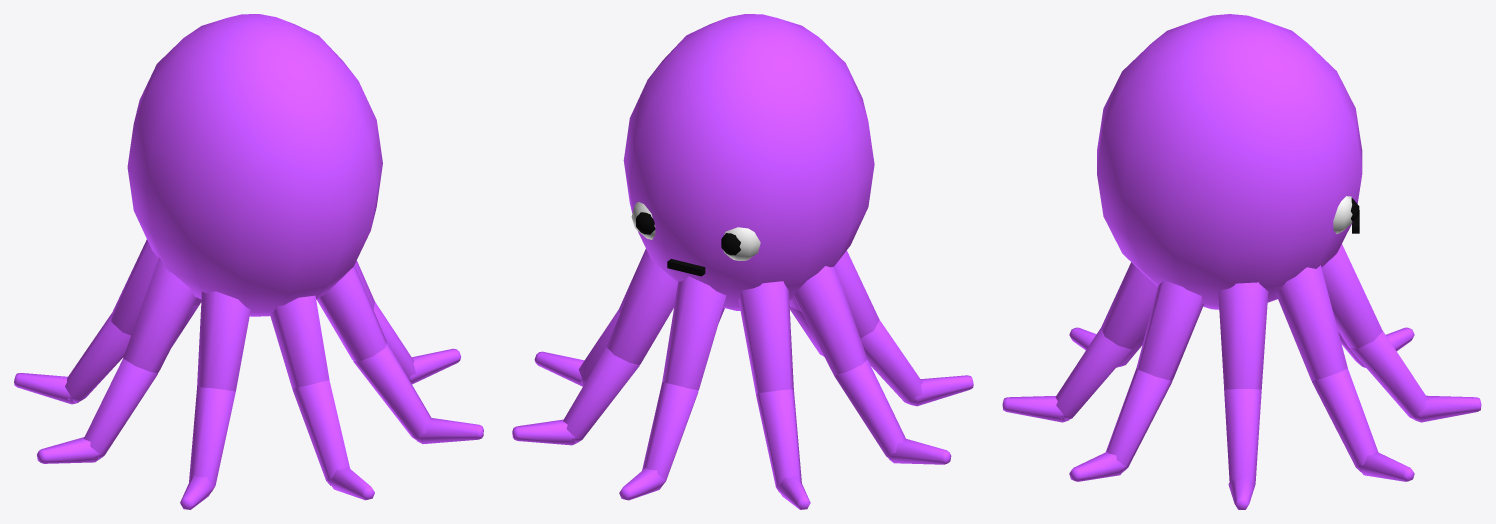
Rendered from octopus.glb.
3 views of the same model, side by side, from view 1: azimuth 30°, elevation 25°; view 2: azimuth 150°, elevation 25°; view 3: azimuth 270°, elevation 25° (orthographic).
Parts seen in each view (by area): view 1: Body, ArmLMesh, ArmRMesh, LegRMesh, LegLMesh; view 2: Body, LegRMesh, ArmLMesh, LegLMesh; view 3: Body, LegLMesh, ArmRMesh, LegRMesh, ArmLMesh.
Part boxes in pixels (bbox=[...]): Body: bbox=[127, 14, 382, 316]; ArmLMesh: bbox=[37, 257, 250, 509]; ArmRMesh: bbox=[269, 265, 483, 500]; LegRMesh: bbox=[14, 239, 201, 404]; LegLMesh: bbox=[354, 260, 460, 384]; Body: bbox=[623, 14, 874, 310]; LegRMesh: bbox=[619, 276, 810, 509]; ArmLMesh: bbox=[794, 250, 973, 464]; LegLMesh: bbox=[512, 249, 677, 445]; Body: bbox=[1097, 14, 1362, 309]; LegLMesh: bbox=[1218, 265, 1414, 509]; ArmRMesh: bbox=[1002, 262, 1203, 481]; LegRMesh: bbox=[1321, 244, 1481, 422]; ArmLMesh: bbox=[1069, 324, 1147, 367].
Bounding box in the file's own units: 1.94 × 1.77 × 1.94.
